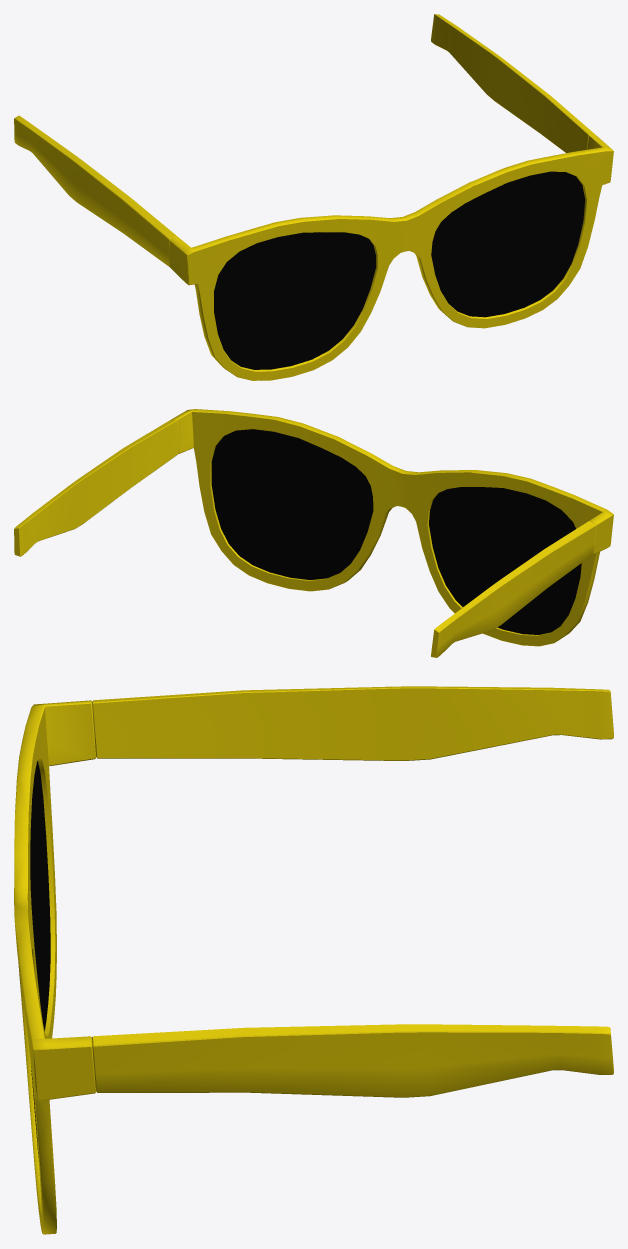
The model's file is ngladdss.glb.
The picture shows the model from 3 angles, top to bottom: view 1: azimuth 30°, elevation 25°; view 2: azimuth 150°, elevation 25°; view 3: azimuth 270°, elevation 25°; orthographic projection. The views are drawn at different scales.
Parts seen in each view (by area): view 1: node; view 2: node; view 3: node.
Boxes of the visible parts, bbox=[...] form: node: bbox=[14, 14, 613, 380]; node: bbox=[14, 409, 613, 657]; node: bbox=[14, 686, 613, 1234].
Size of the model in its own units: 4.12 by 1.49 by 3.02.
